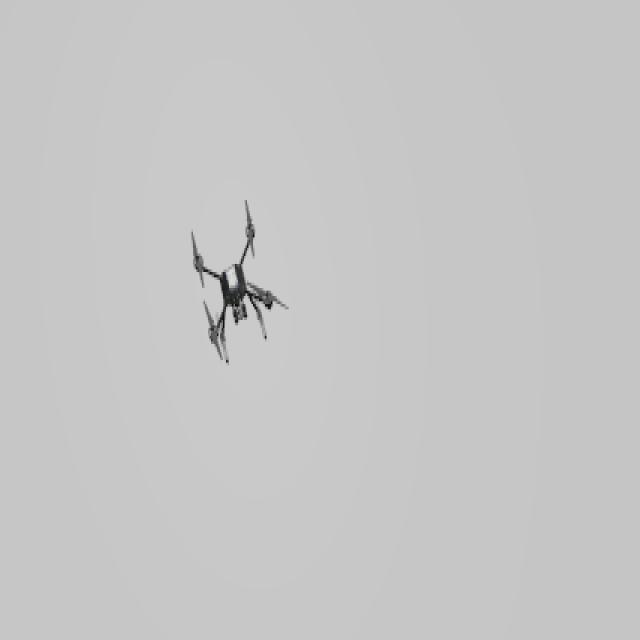drone: (188, 196, 286, 367)
